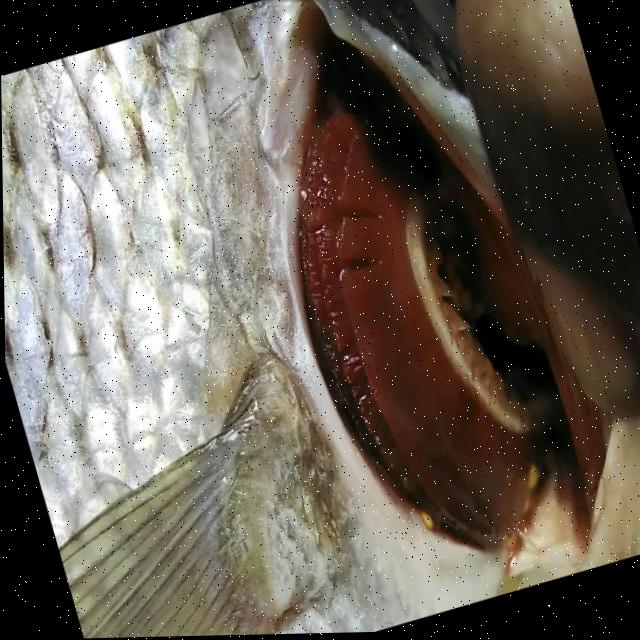Fresh: (217, 9, 596, 622)
